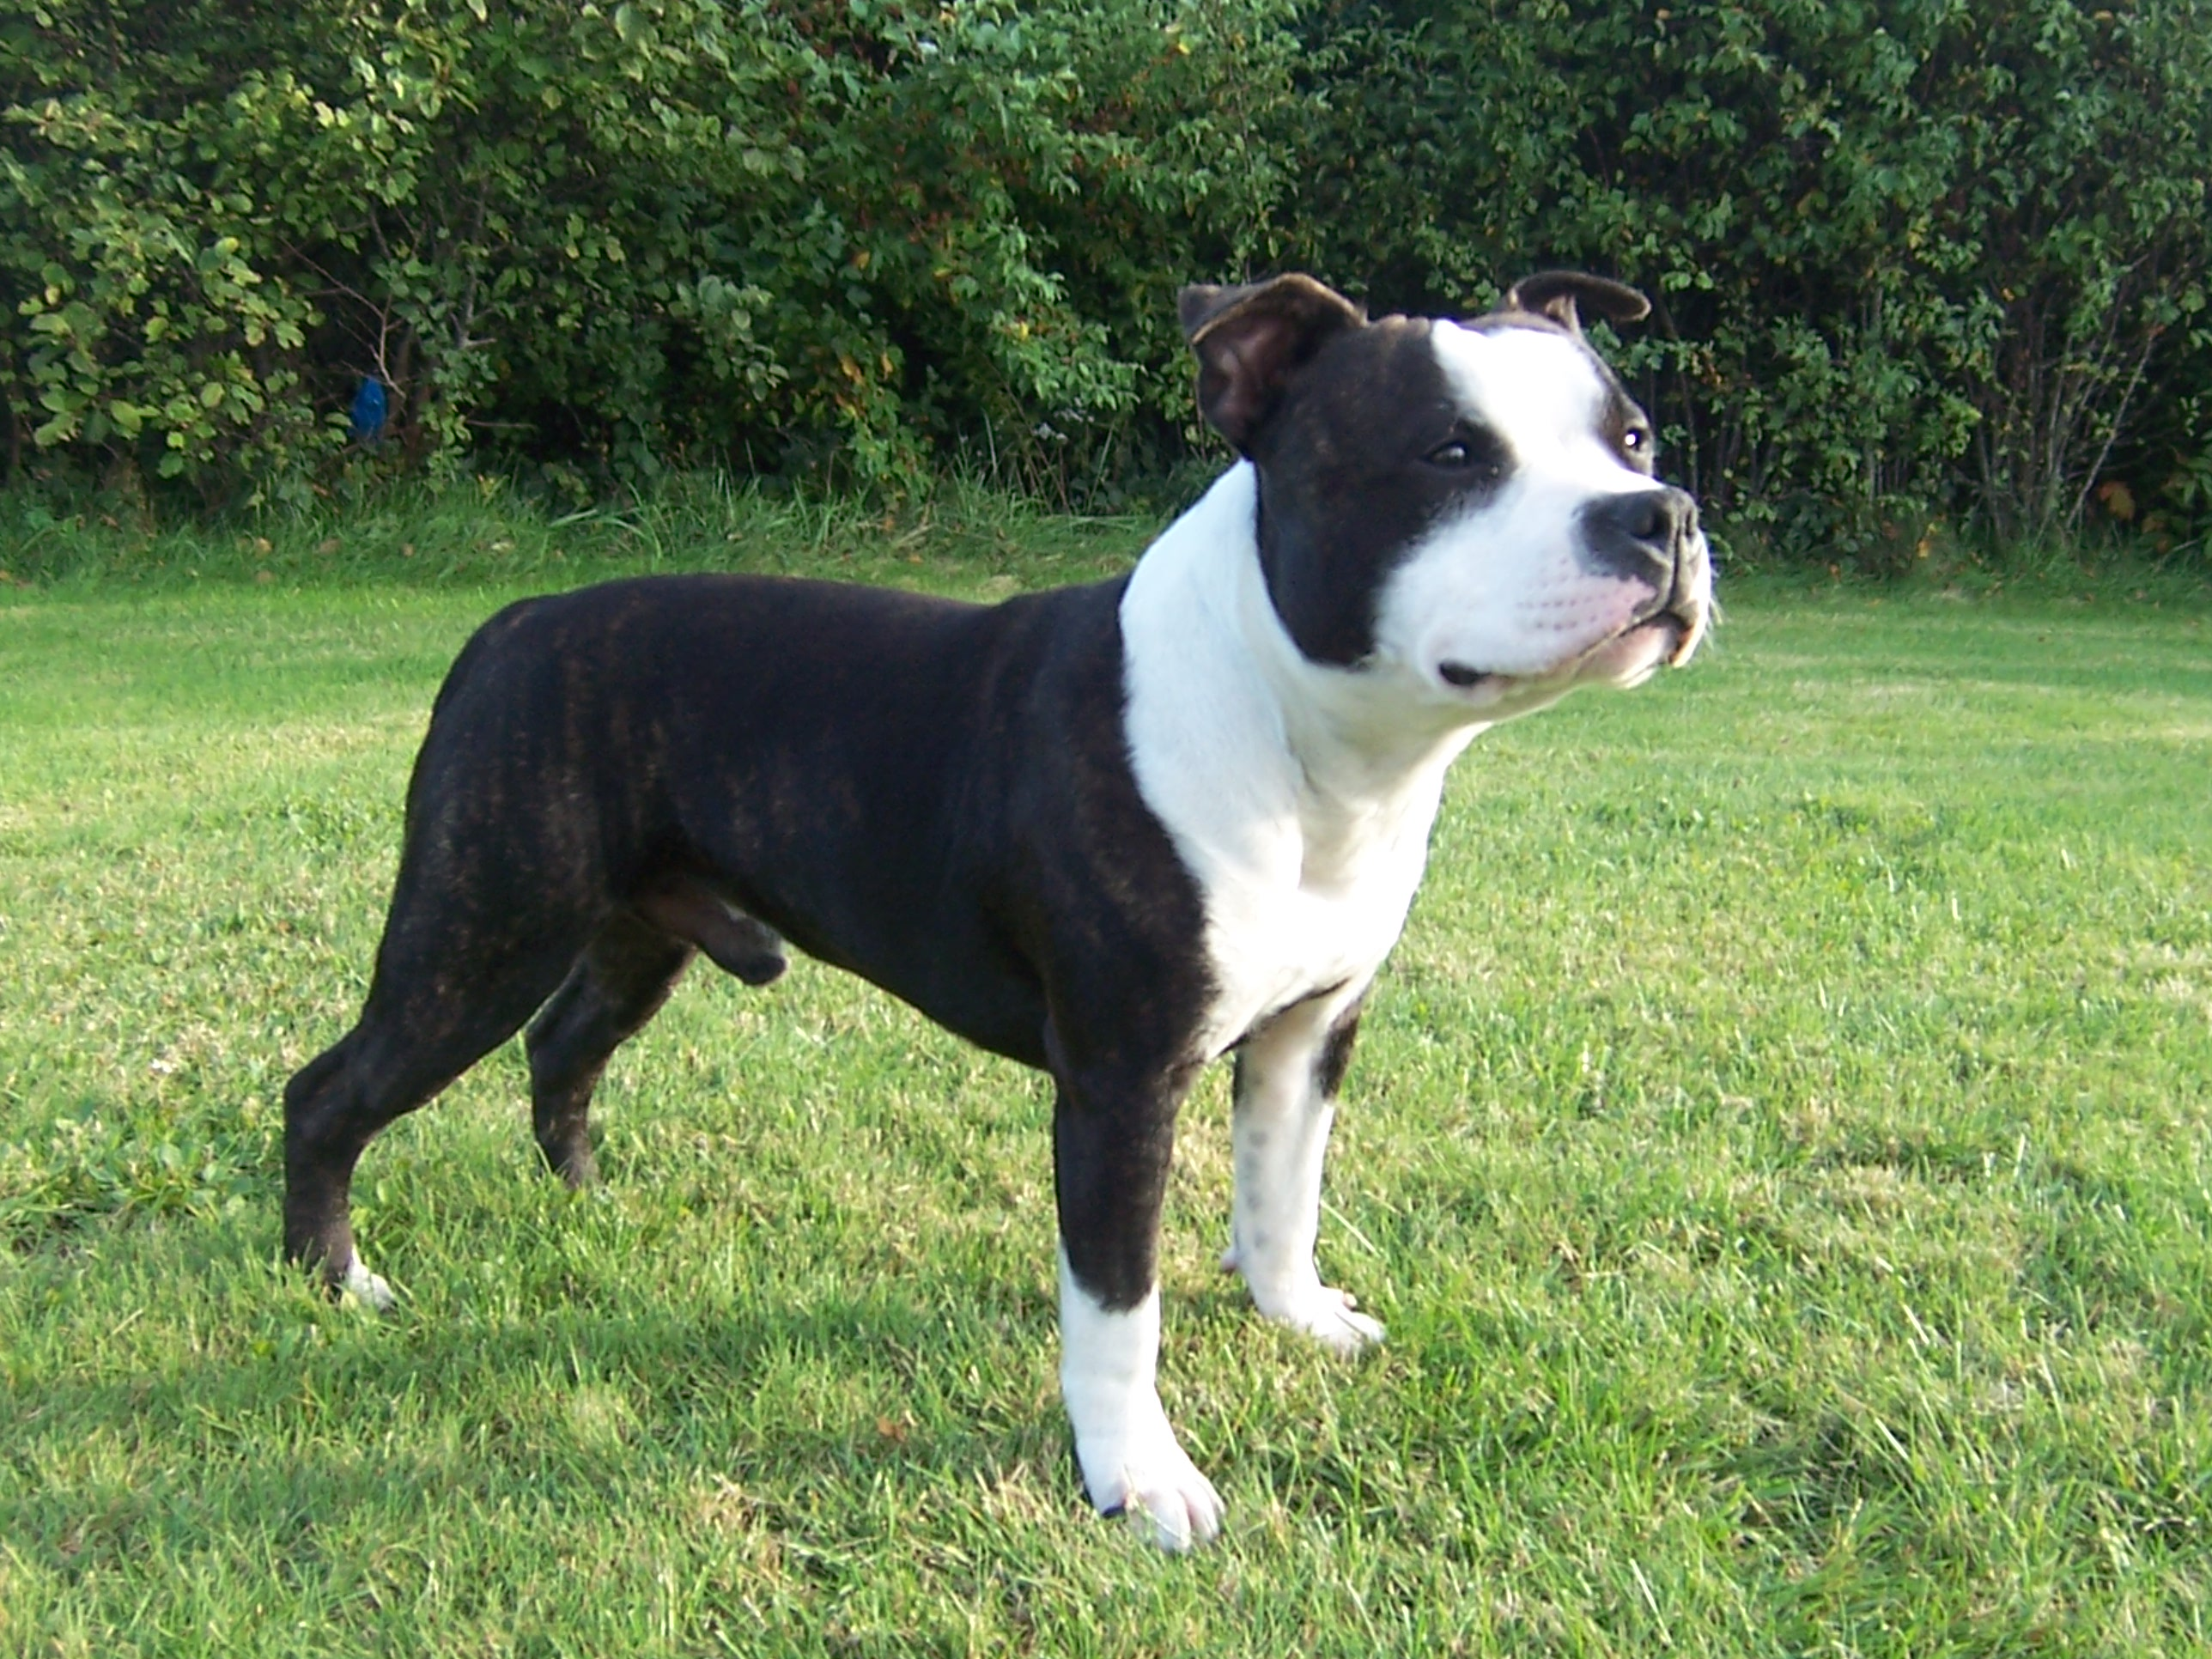staffordshire_bullterrier: (277, 267, 1721, 1554)
